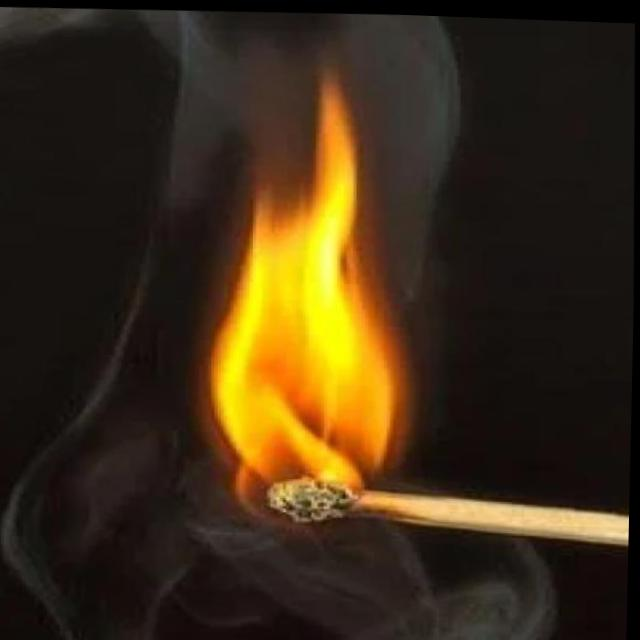Fire: (196, 62, 446, 523)
